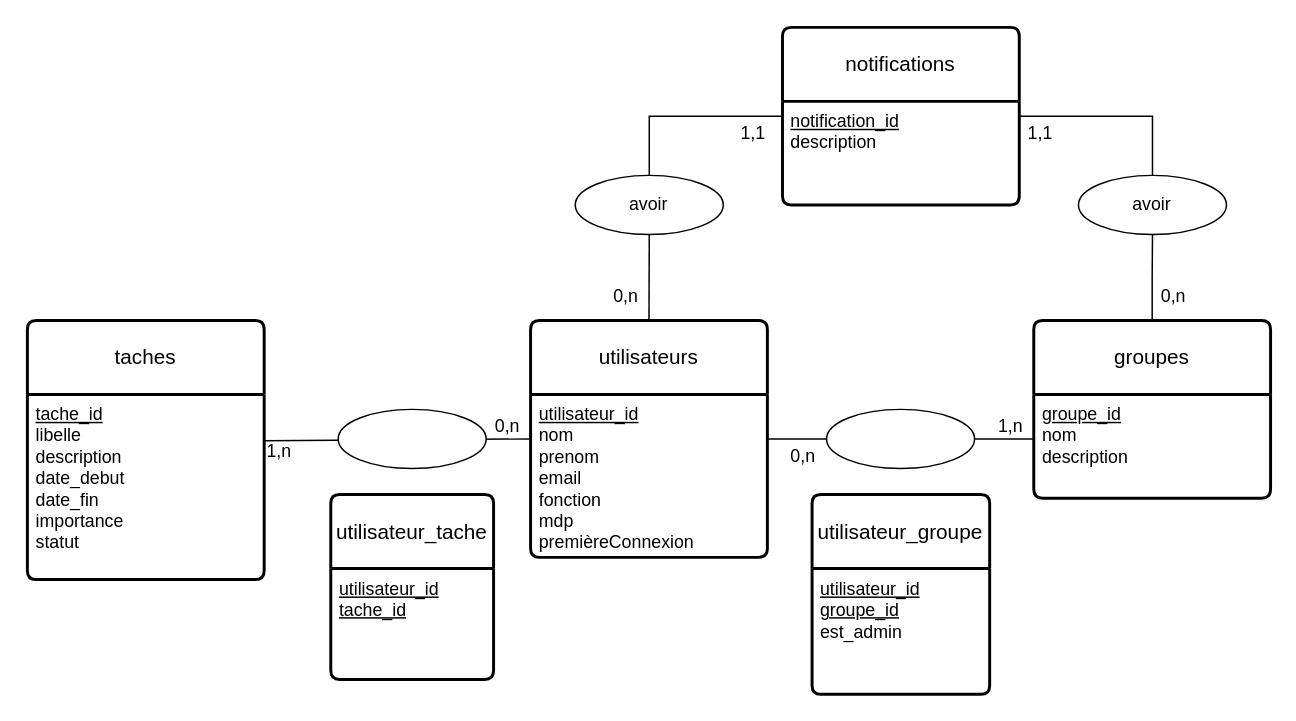
The diagram is 1296 pixels wide and 721 high, and some of its shapes have lost their labels. The shapes that lost their labels are listed below. From the top down, each one's centre as x and y in pixels, then its label:
point (411, 438): Planifier
point (900, 438): Appartenir
